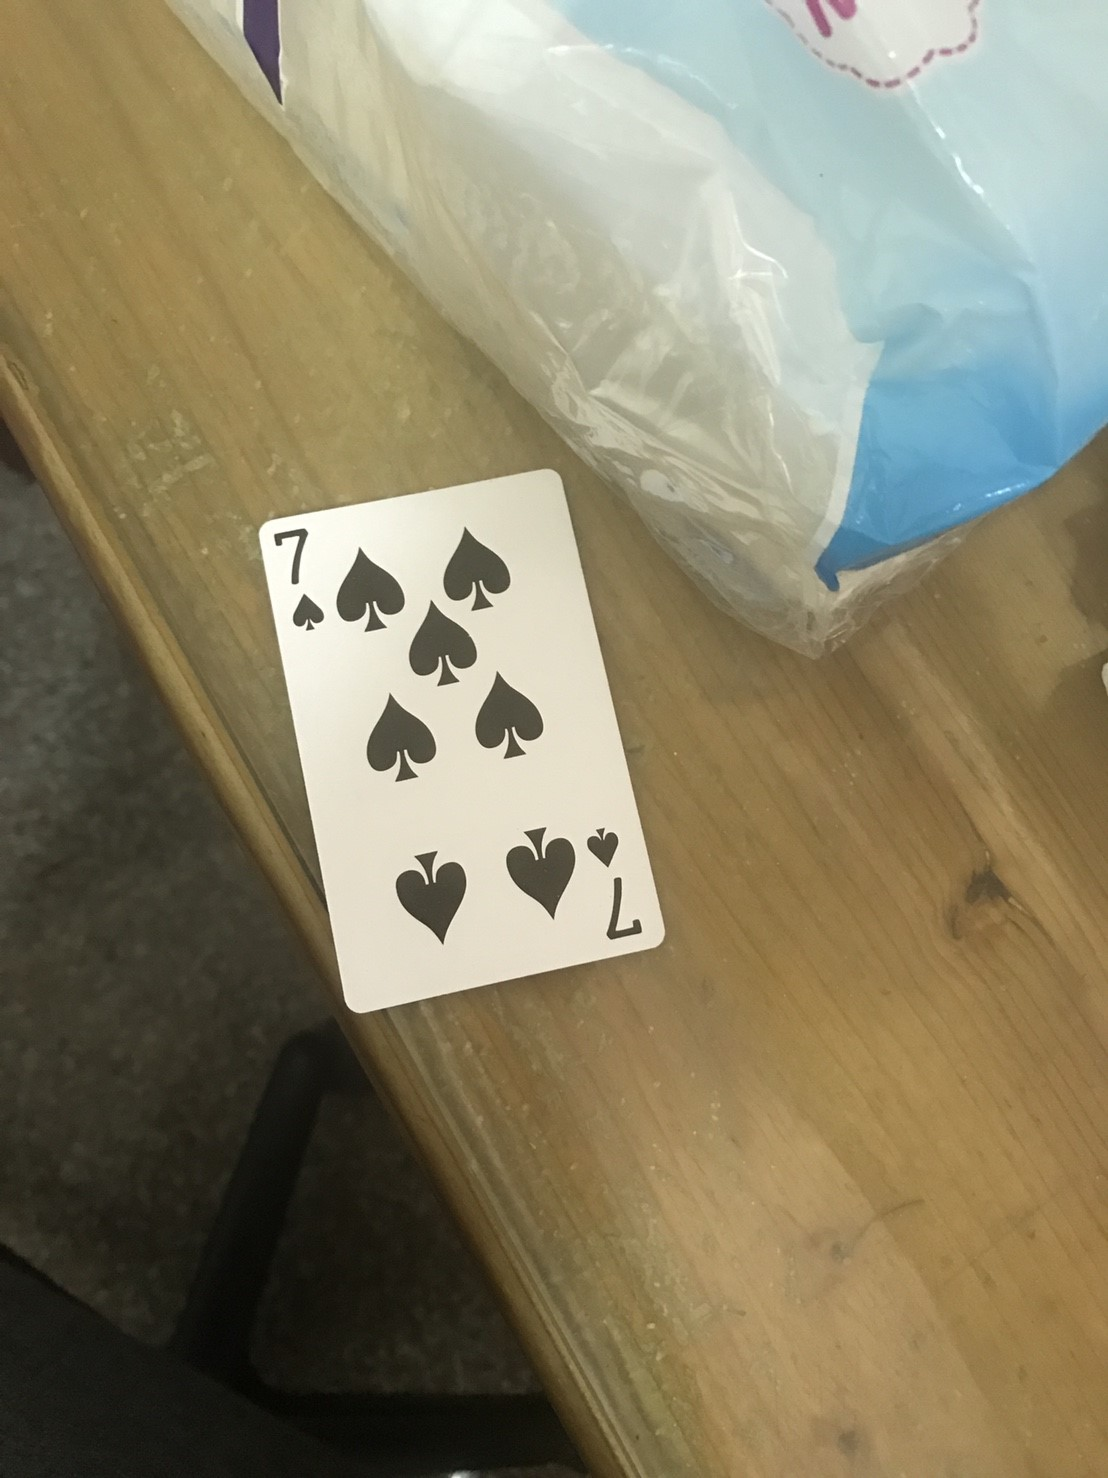spades: (375, 847, 470, 945), (473, 666, 555, 761), (396, 599, 486, 685), (510, 813, 577, 928), (329, 543, 406, 640), (365, 688, 436, 786), (443, 524, 514, 611), (580, 820, 627, 869), (284, 590, 327, 633)
